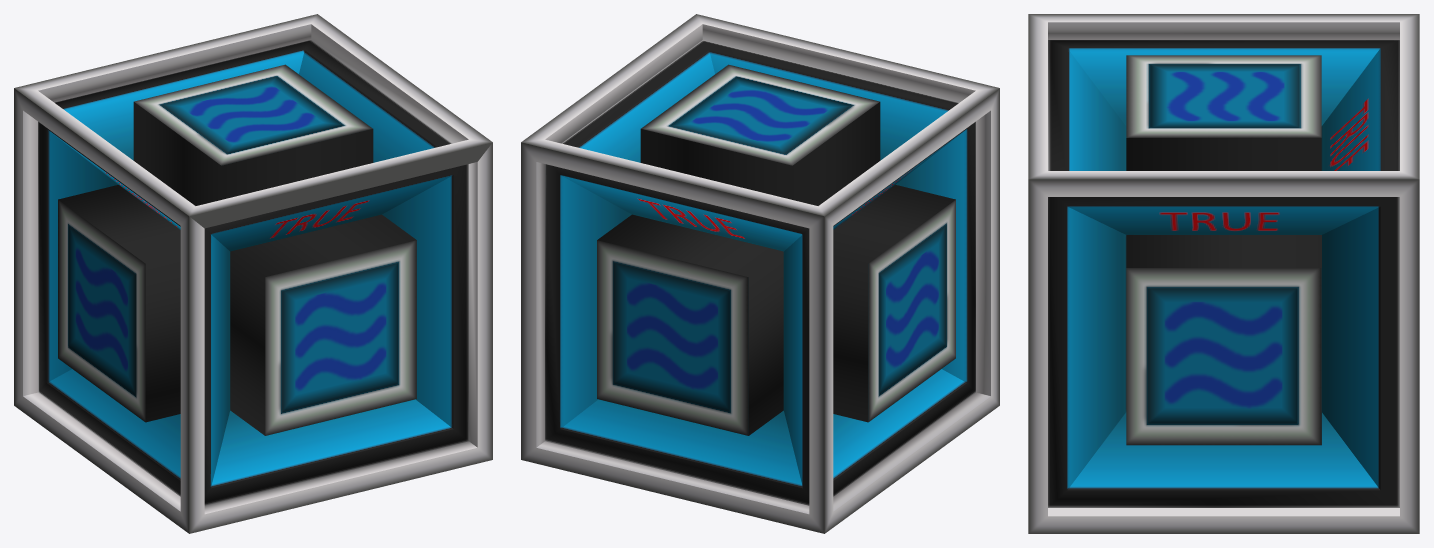
File: true_infinite_tank.obj
The picture shows the model from 3 angles, left to right: view 1: azimuth 30°, elevation 25°; view 2: azimuth 150°, elevation 25°; view 3: azimuth 270°, elevation 25°; orthographic projection. The views are drawn at different scales.
Parts seen in each view (by area): view 1: Cube.002; view 2: Cube.002; view 3: Cube.002.
Boxes of the visible parts, x1,y1,x2,y2 form: Cube.002: (14, 14, 492, 533); Cube.002: (521, 14, 999, 533); Cube.002: (1028, 14, 1419, 533).
Bounding box in the file's own units: 1 × 1 × 1.
